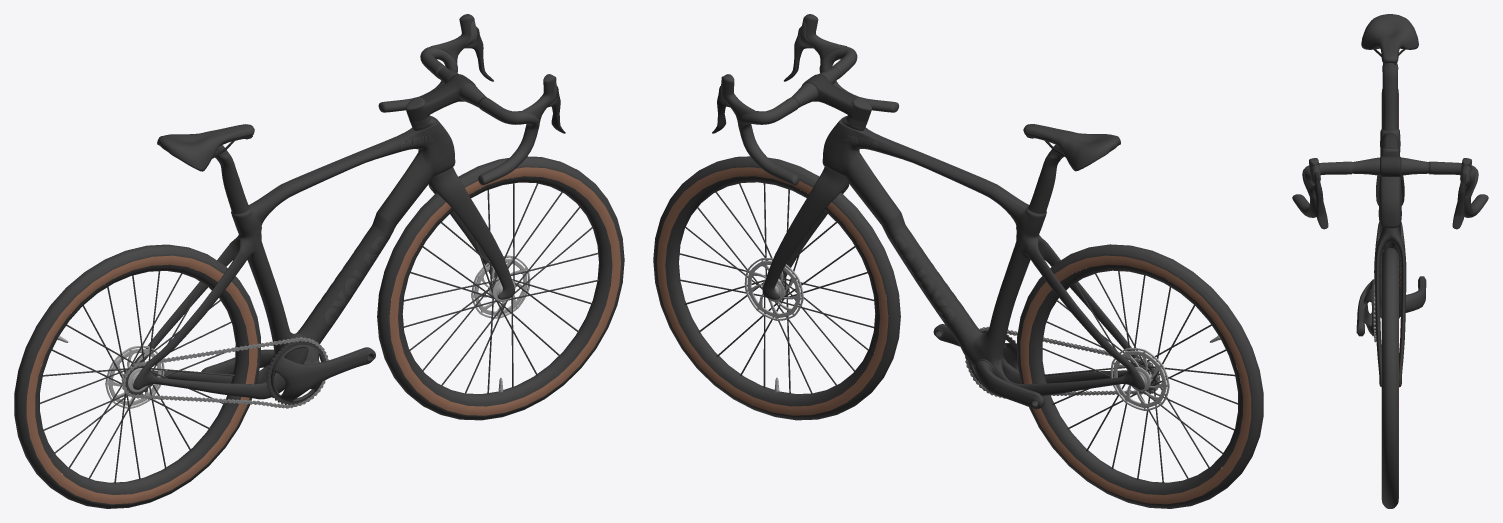
The model's file is bike1-black.glb.
3 views of the same model, side by side, from view 1: azimuth 30°, elevation 25°; view 2: azimuth 150°, elevation 25°; view 3: azimuth 270°, elevation 25° (orthographic). The views are drawn at different scales.
Visible parts, largest first — view 1: bike; view 2: bike; view 3: bike.
Boxes of the visible parts, x1,y1,x2,y2 form: bike: (14,14,624,508); bike: (653,14,1263,508); bike: (1292,14,1488,508).
Size of the model in its own units: 1.77 by 1.03 by 0.5343.
